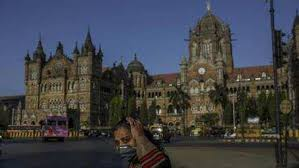mask: (104, 108, 153, 164)
